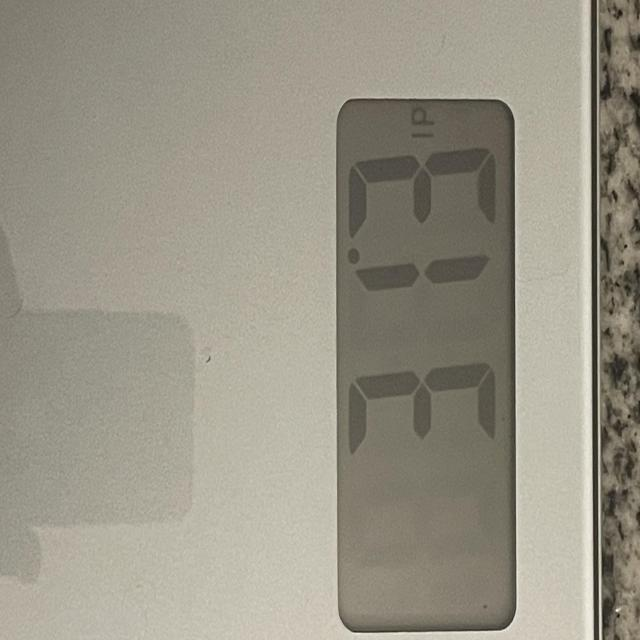ws: (334, 98, 517, 636)
